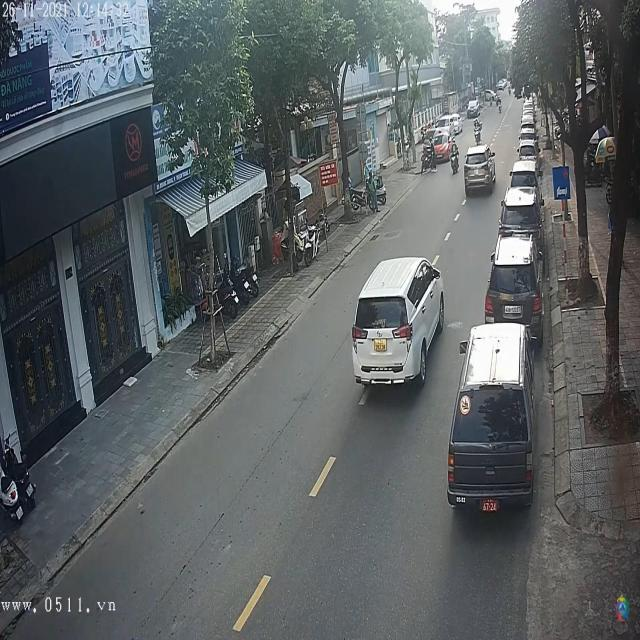car: (450, 322, 536, 506), (350, 257, 444, 388), (485, 233, 544, 331), (499, 191, 542, 236), (463, 146, 497, 198), (505, 161, 538, 199), (518, 142, 537, 163), (468, 98, 481, 117)
motorcycle: (451, 150, 461, 178)
